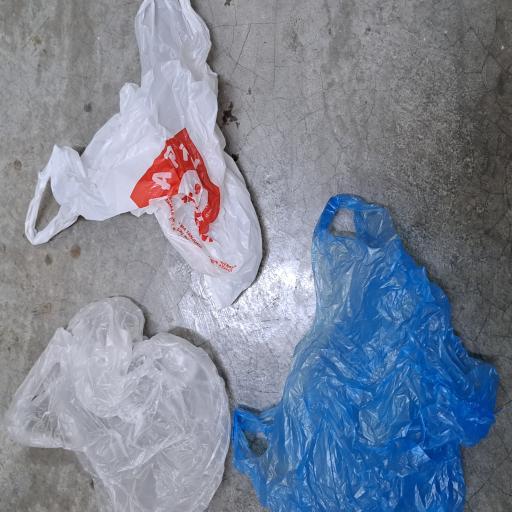plastic bag: (149, 36, 384, 354), (0, 0, 165, 307), (0, 304, 238, 512)
